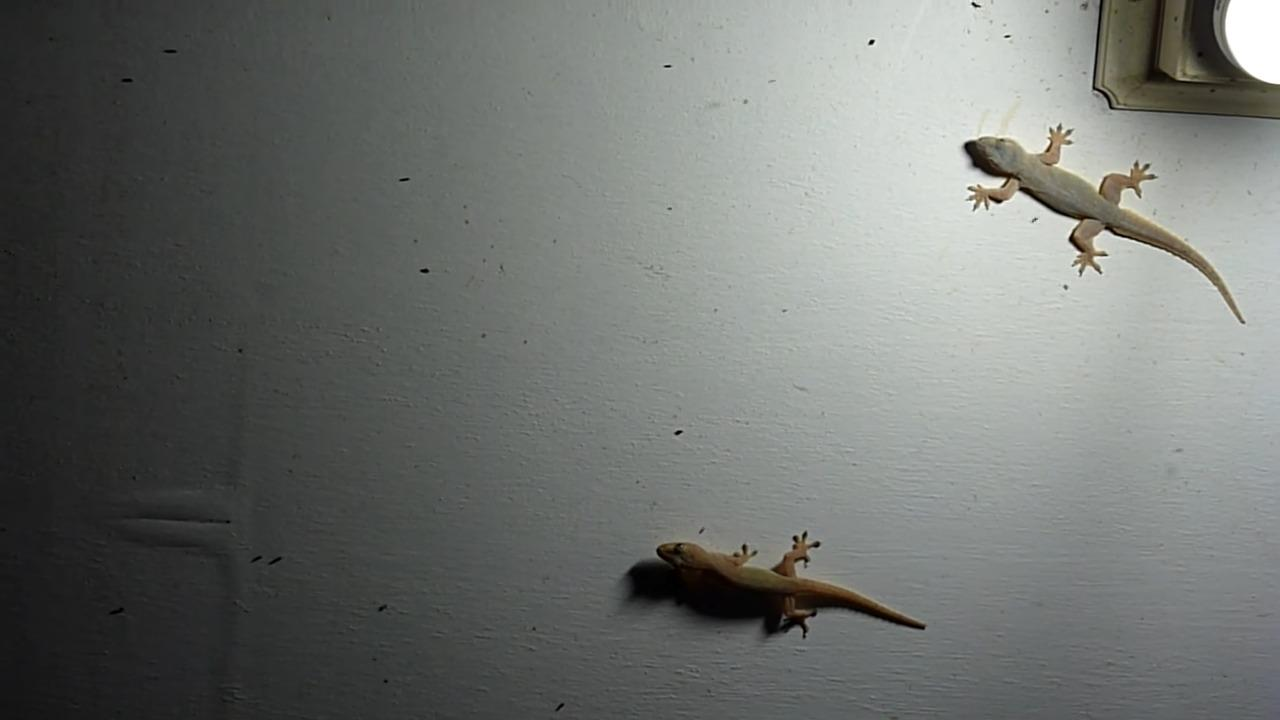lizard: (951, 107, 1257, 324), (644, 510, 973, 647)
